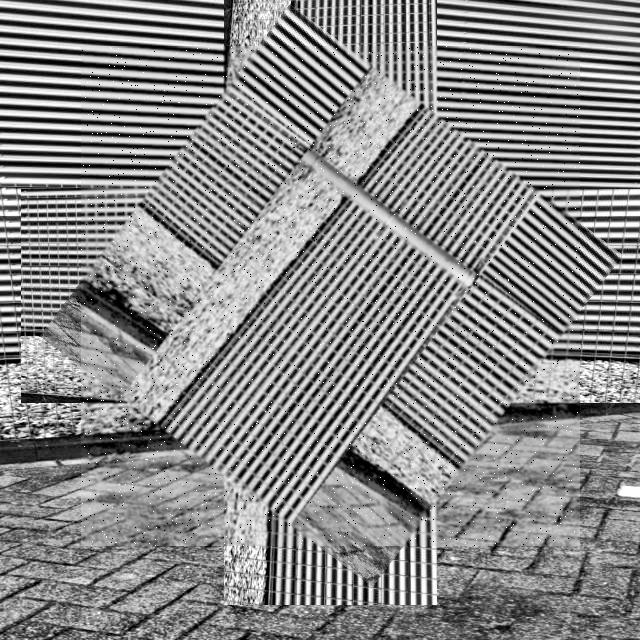fences: (81, 46, 580, 546)
